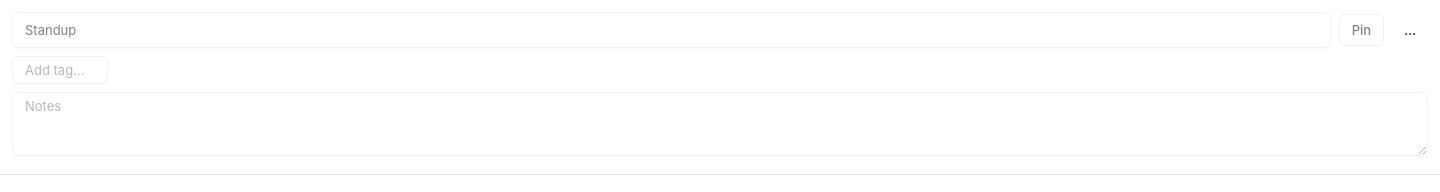
Test: SessionHeader › a live summary disables editing but leaves Reveal enabled
Check: the field named "Session name" is disabled, box [12,12,1331,48]
Check: the button "Pin" is disabled, box [1339,14,1384,46]
Click the button named "More actions" at (1410, 30), box [1392,14,1428,46]
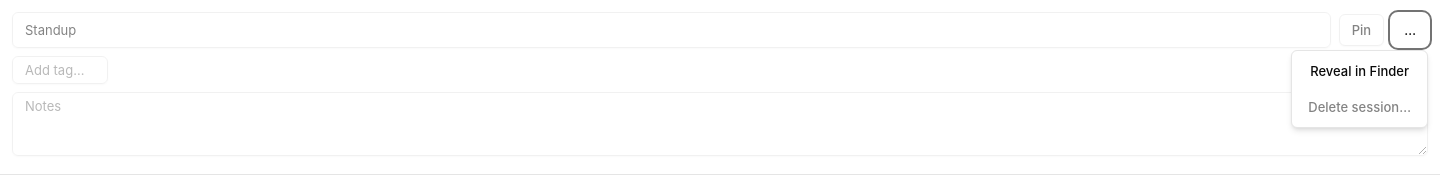
Check: the button "Reveal in Finder" is enabled, box [1296,55,1423,87]
Check: the button "Delete session…" is disabled, box [1296,91,1423,123]
